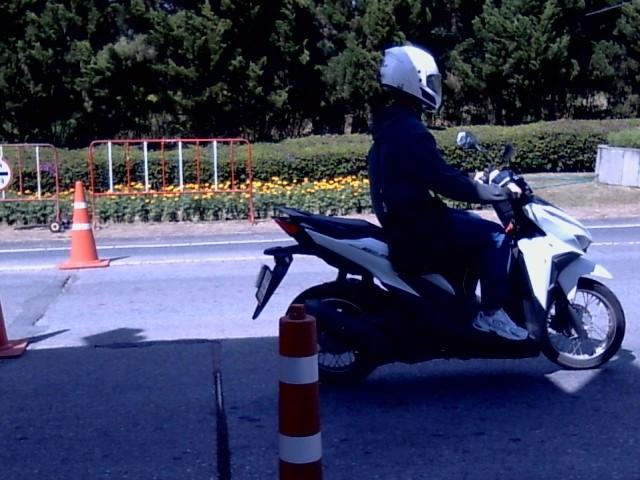helmet: (378, 45, 442, 112)
motor: (253, 170, 624, 382)
person: (367, 44, 526, 340)
